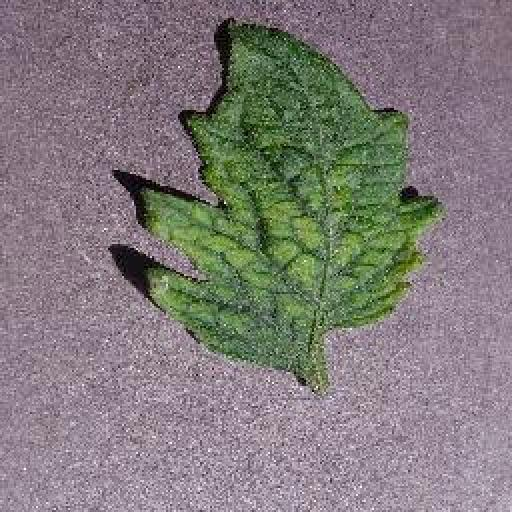Mosaic Virus: (139, 13, 441, 369)
